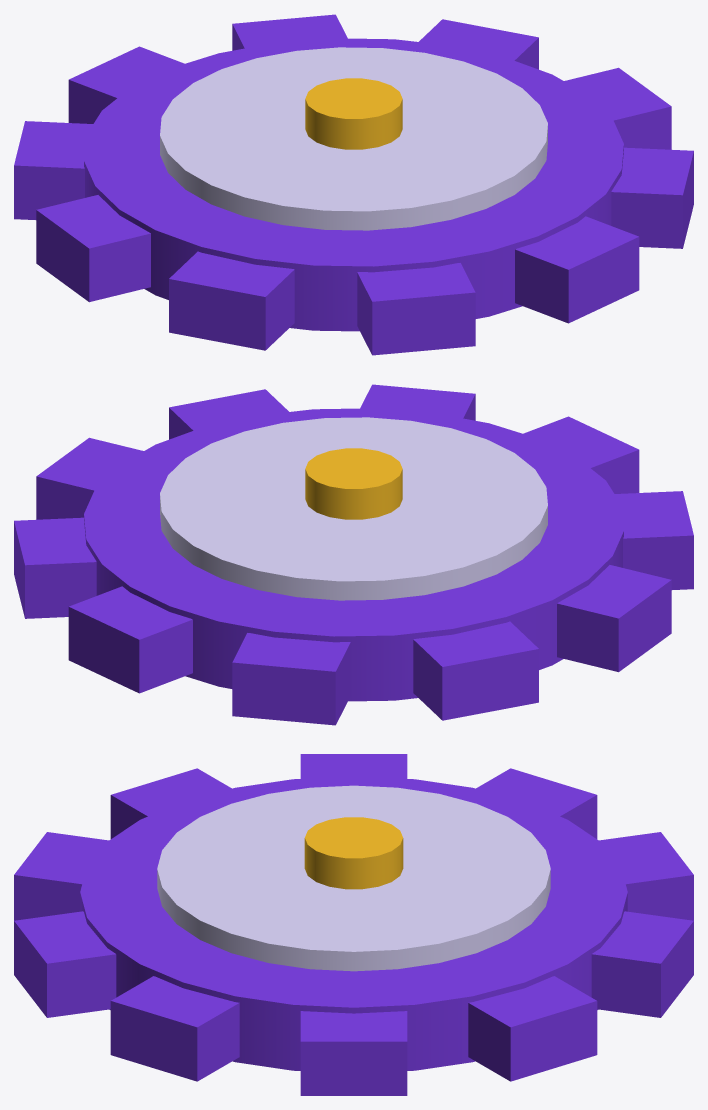
Rendered from toy_castle_gear_disc.glb.
The picture shows the model from 3 angles, top to bottom: view 1: azimuth 30°, elevation 25°; view 2: azimuth 150°, elevation 25°; view 3: azimuth 270°, elevation 25°; orthographic projection.
Visible parts, largest first — view 1: solid_1, solid_12, solid_6, solid_4, solid_5, solid_7, solid_3, solid_13, solid_8, solid_2, solid_9, solid_11 (+1 smaller); view 2: solid_1, solid_12, solid_8, solid_10, solid_9, solid_7, solid_11, solid_13, solid_6, solid_2, solid_5, solid_3 (+1 smaller); view 3: solid_1, solid_12, solid_3, solid_11, solid_2, solid_4, solid_10, solid_13, solid_5, solid_9, solid_6, solid_8 (+1 smaller).
Part boxes in pixels (x1,y1,x2,y2): solid_1: [84, 38, 623, 331]; solid_12: [160, 47, 547, 230]; solid_6: [169, 251, 294, 350]; solid_4: [515, 216, 639, 323]; solid_5: [357, 263, 475, 355]; solid_7: [36, 195, 150, 302]; solid_3: [611, 147, 693, 248]; solid_13: [305, 78, 402, 149]; solid_8: [14, 121, 92, 219]; solid_2: [564, 67, 671, 149]; solid_9: [68, 46, 184, 123]; solid_11: [419, 19, 538, 69]; solid_1: [84, 408, 623, 701]; solid_12: [160, 417, 547, 600]; solid_8: [413, 621, 538, 720]; solid_10: [68, 586, 192, 693]; solid_9: [232, 633, 350, 725]; solid_7: [557, 565, 671, 672]; solid_11: [14, 517, 96, 618]; solid_13: [305, 448, 402, 519]; solid_6: [615, 491, 693, 589]; solid_2: [36, 437, 143, 519]; solid_5: [523, 416, 639, 493]; solid_3: [169, 389, 288, 439]; solid_1: [80, 776, 627, 1070]; solid_12: [157, 785, 550, 971]; solid_3: [110, 976, 239, 1081]; solid_11: [468, 976, 597, 1081]; solid_2: [300, 1011, 407, 1095]; solid_4: [14, 911, 116, 1017]; solid_10: [591, 911, 693, 1017]; solid_13: [304, 817, 403, 889]; solid_5: [14, 832, 108, 920]; solid_9: [599, 832, 693, 920]; solid_6: [110, 768, 231, 838]; solid_8: [476, 768, 597, 838].
Bounding box in the file's own units: 3.18 × 0.62 × 3.18.
